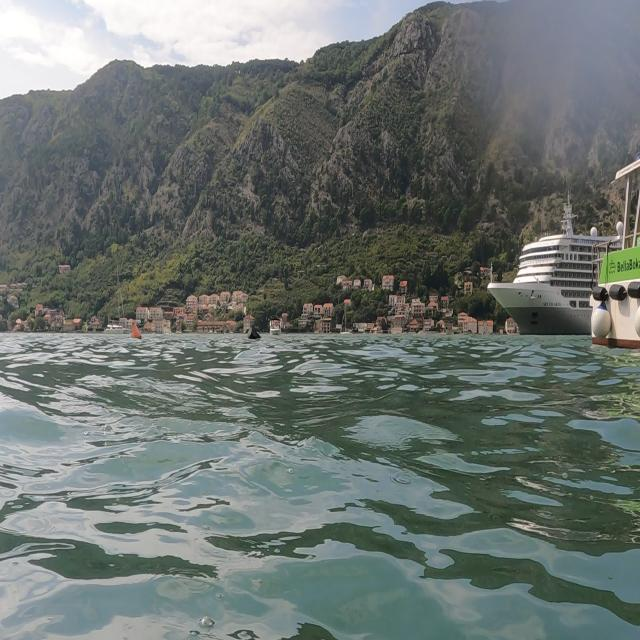boat: (486, 186, 620, 336)
buoy: (125, 316, 144, 348), (245, 324, 263, 344)
